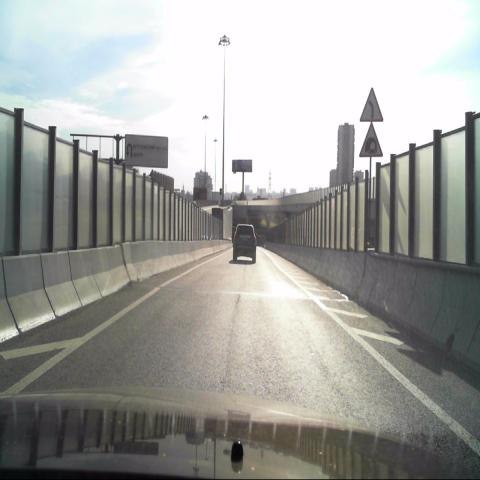1_11_1: (357, 86, 386, 122)
1_31: (358, 121, 383, 157)
